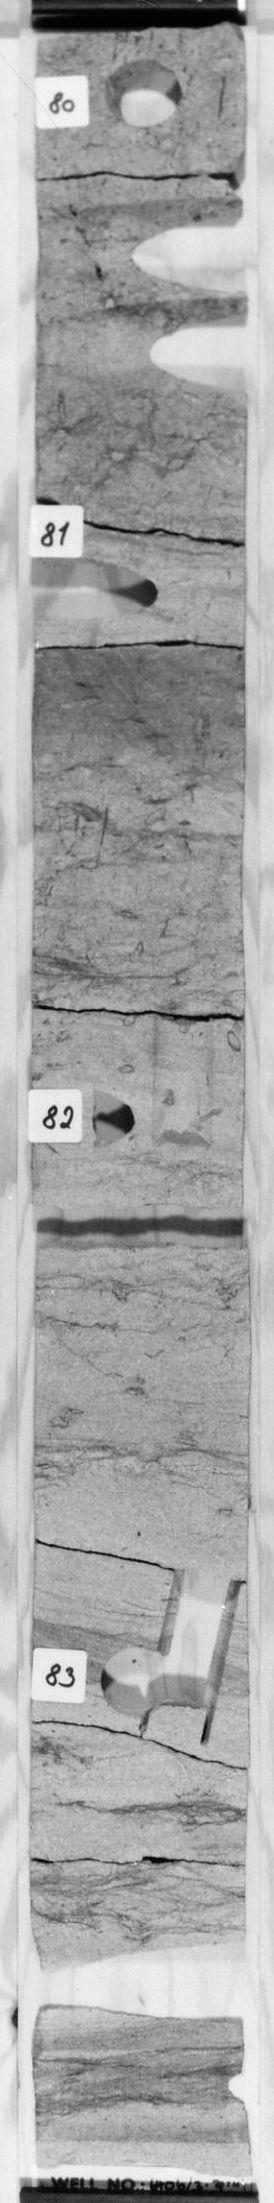hplug: (32, 545, 167, 636), (93, 51, 190, 133), (97, 1634, 170, 1725), (74, 1082, 143, 1158)
scal: (35, 1923, 244, 2060), (39, 190, 240, 312), (39, 303, 244, 400), (32, 2061, 247, 2122)
vplug: (138, 1564, 243, 1749), (141, 1020, 225, 1159)
